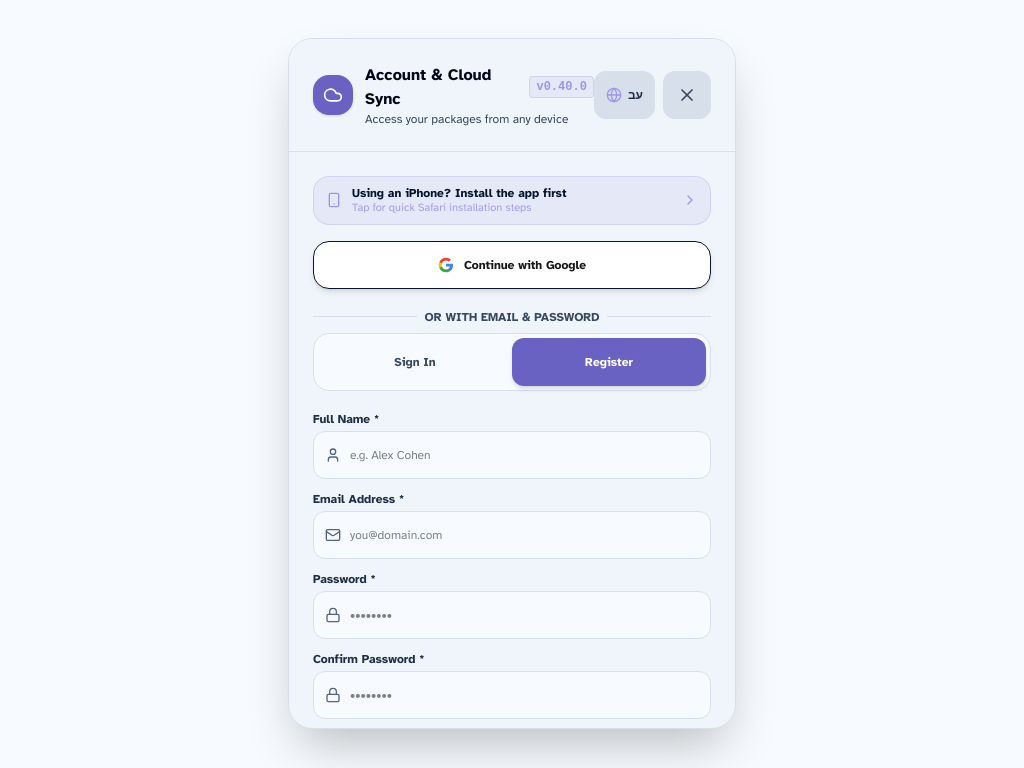
Scenario: AuthModal (rendered) › rejects mismatched passwords on register
Type "Alex Cohen" into the field with placeholder "e.g. Alex Cohen" at coordinates (512, 455), box [313,431,711,479]
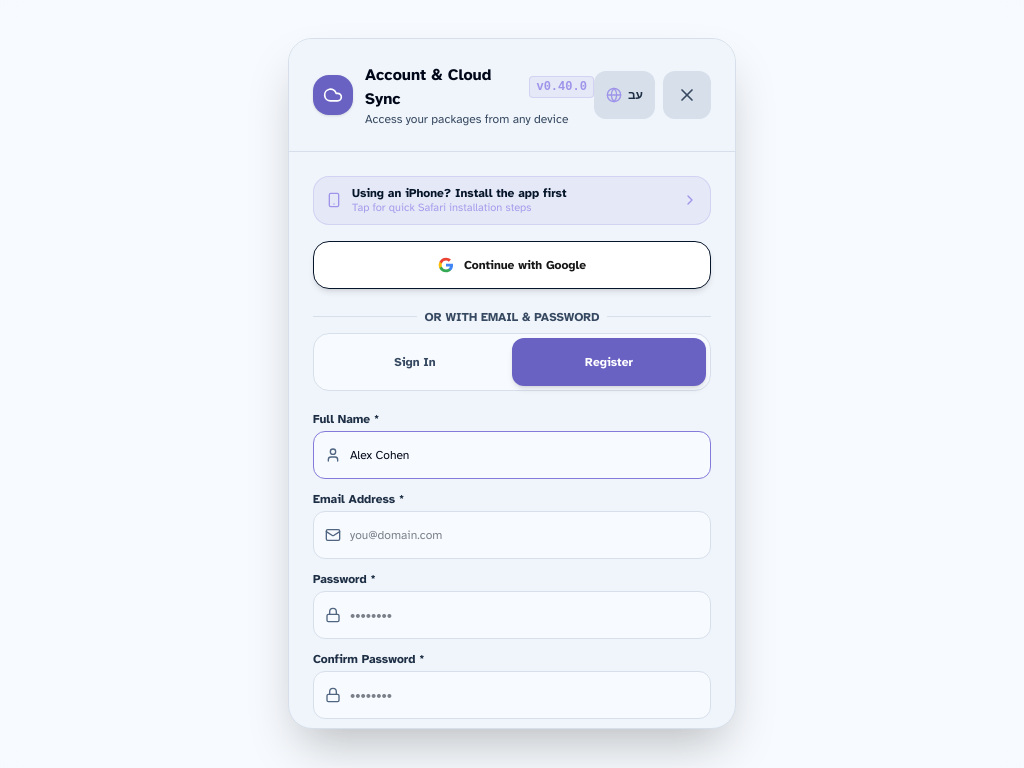
Type "alex@example.com" into the field with placeholder "you@domain.com" at coordinates (512, 535), box [313,511,711,559]
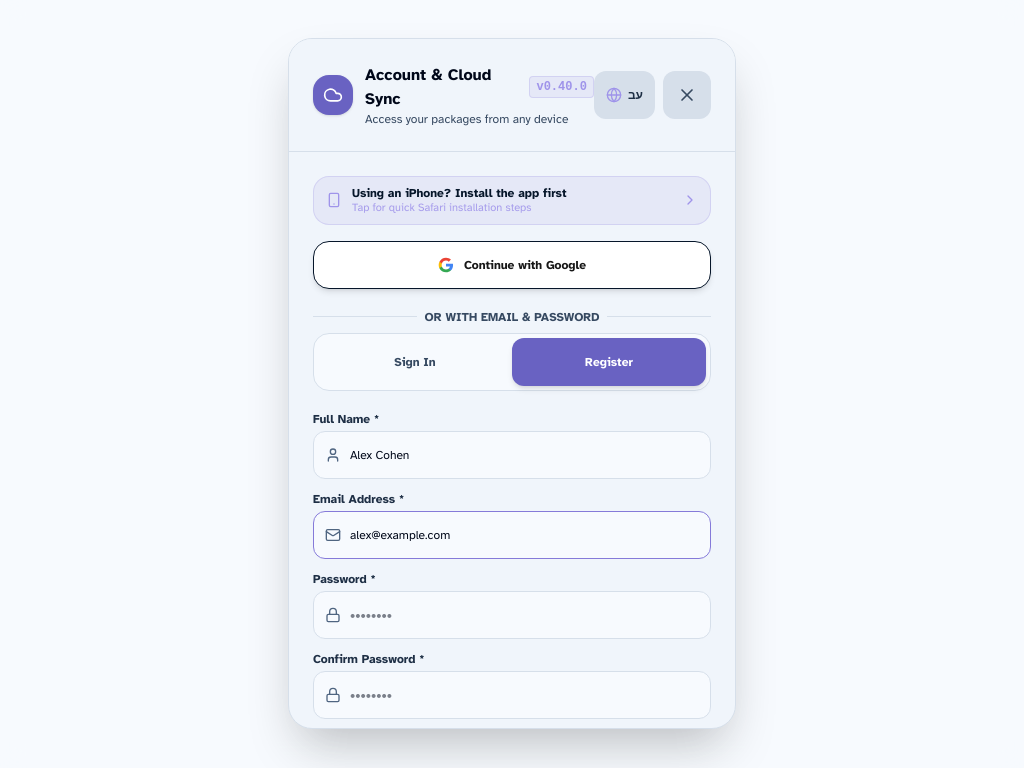
Type "Correct1!Horse" into the 1st password field with placeholder "••••••••" at coordinates (512, 615), box [313,591,711,639]
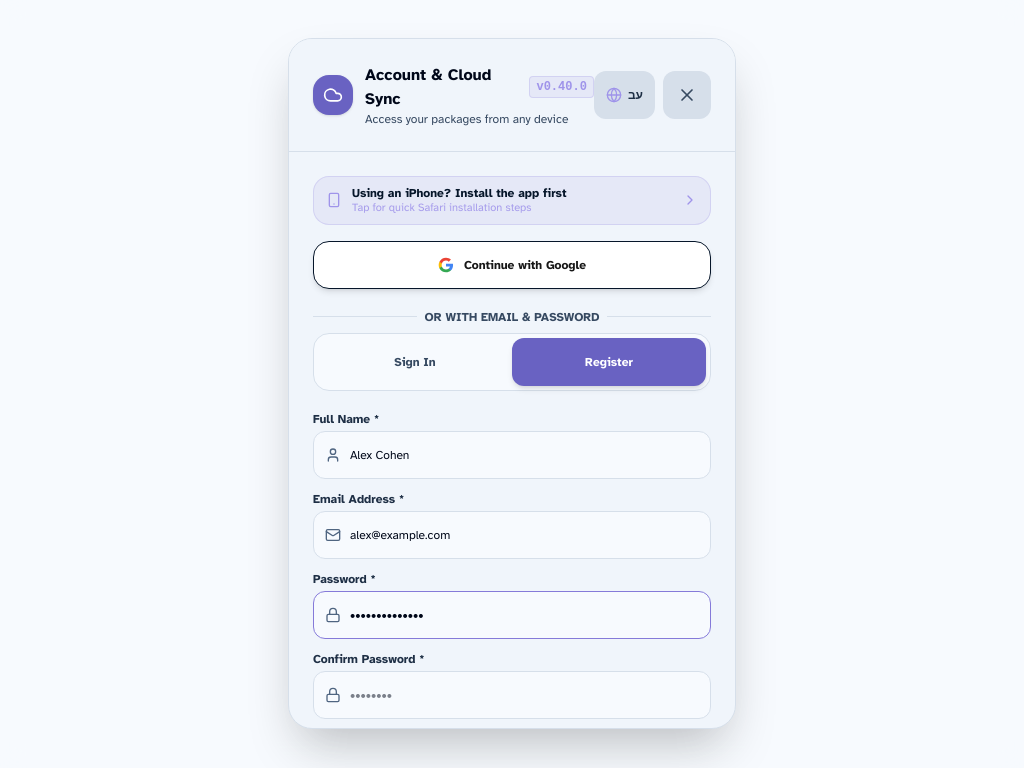
Type "Different1!Horse" into the password field with placeholder "••••••••" at coordinates (512, 695), box [313,671,711,719]
(page scrolled)
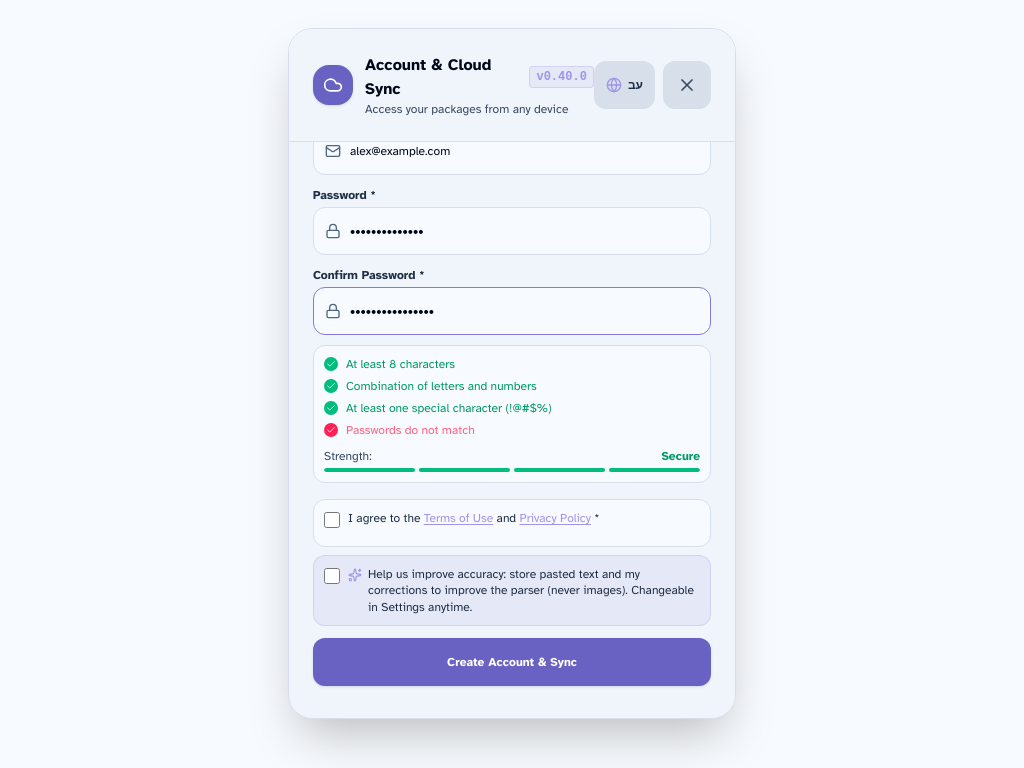
Click the button "Create Account & Sync" at coordinates (512, 663), box [313,639,711,687]
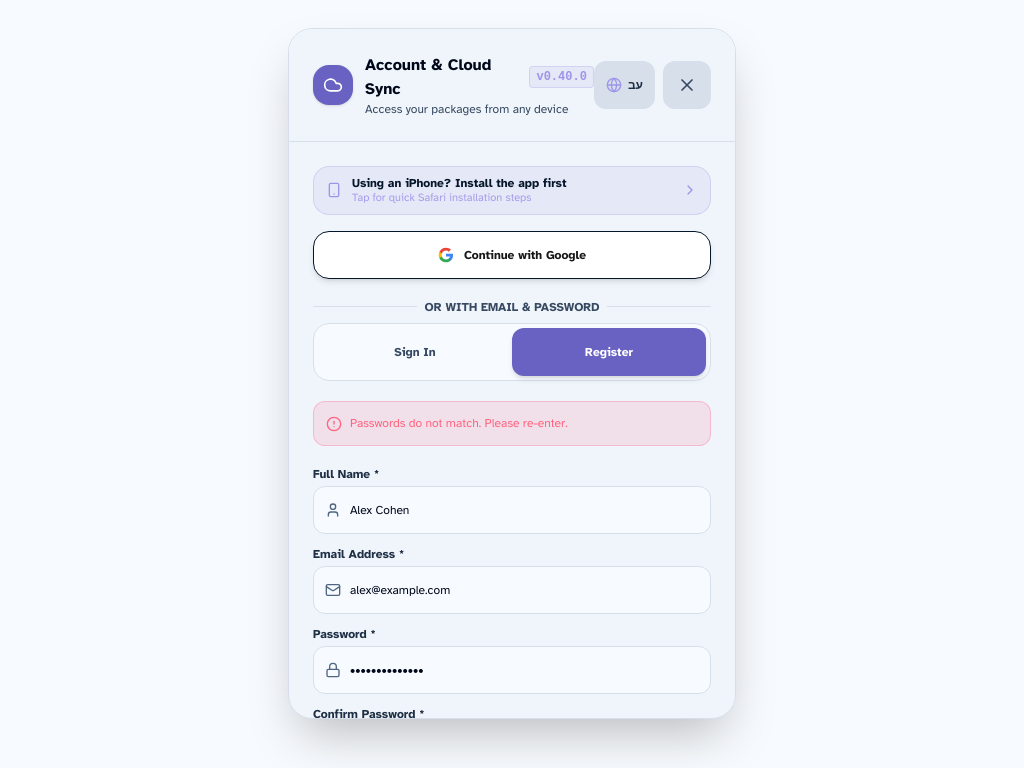
Result: the text "Passwords do not match. Please re-enter." is shown at [350,414,568,434]
